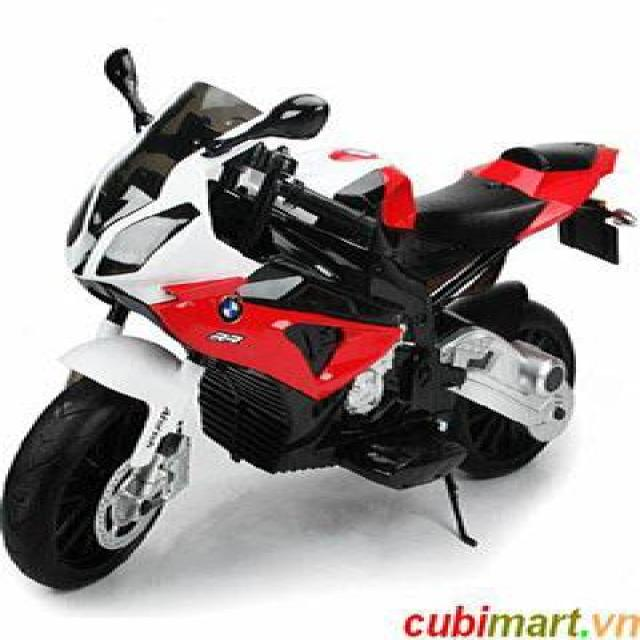motorcycle: (0, 32, 611, 592)
